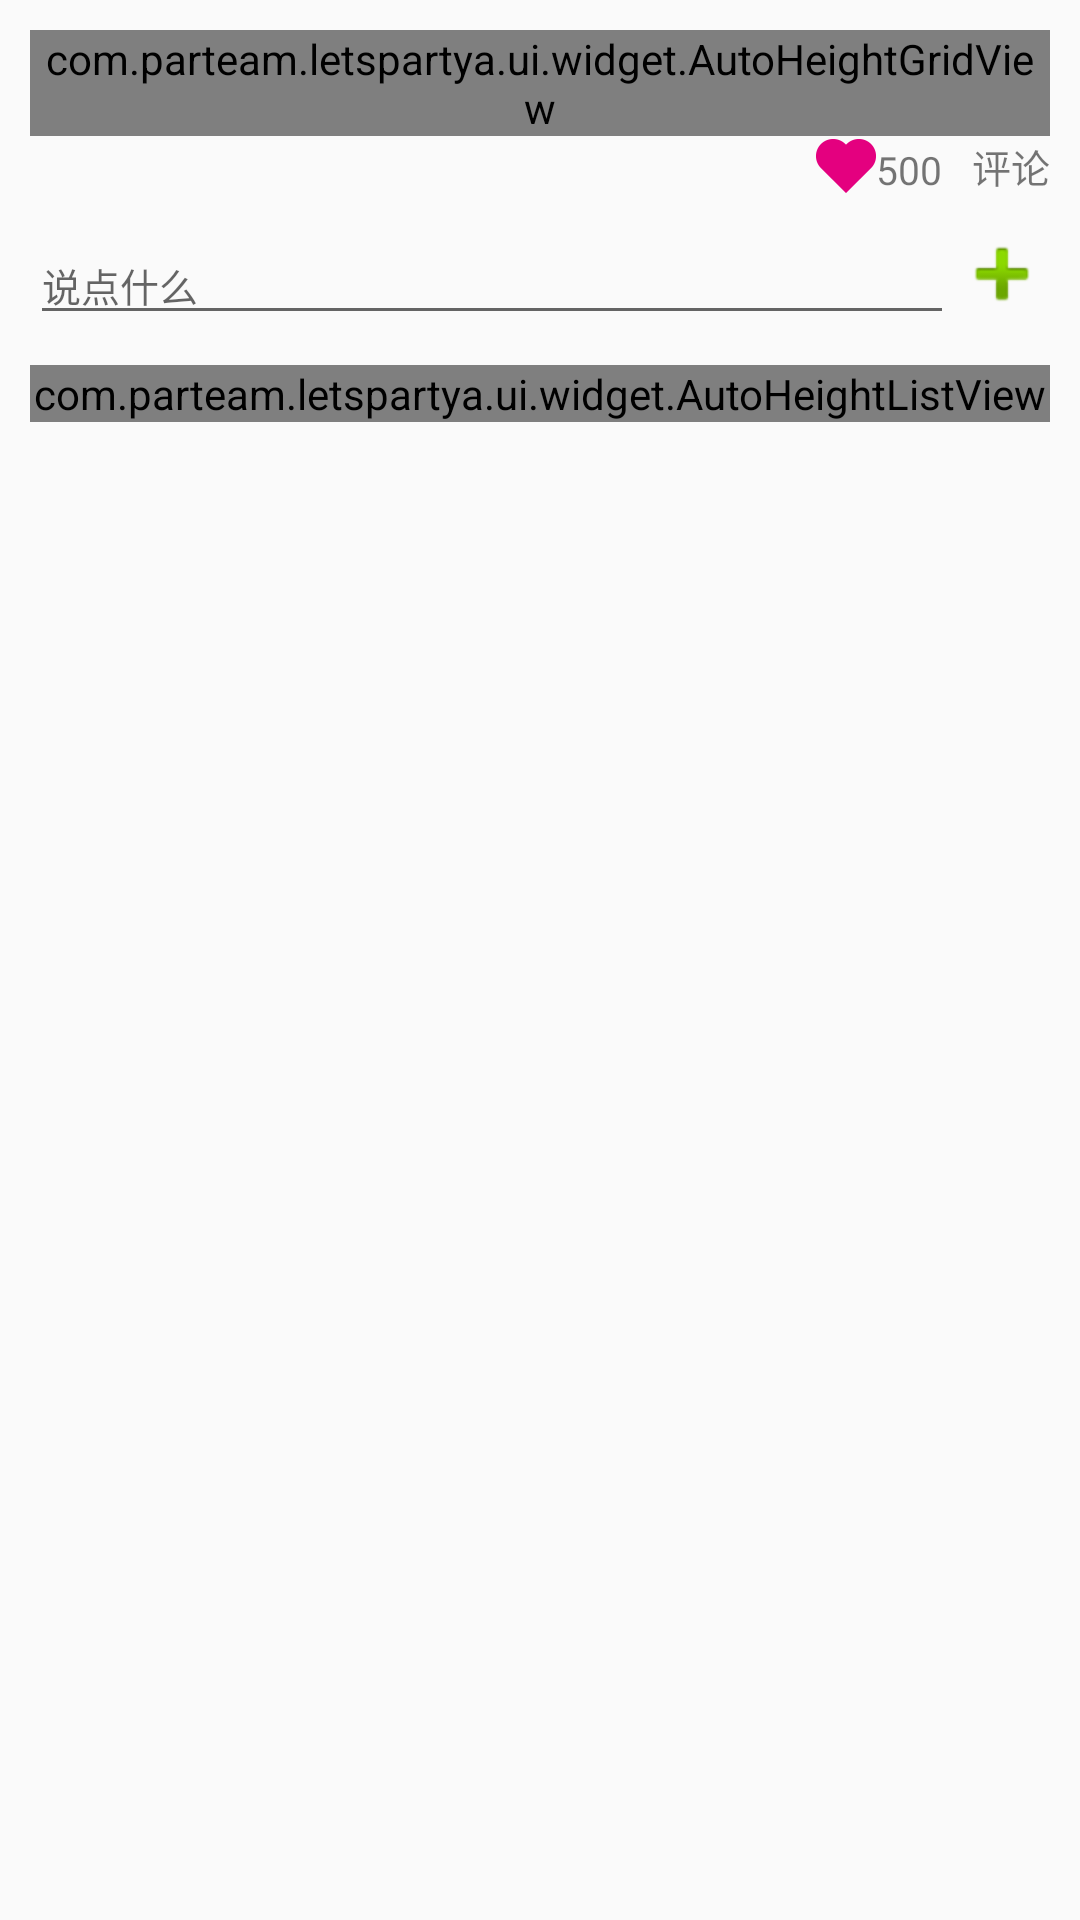

Icons on this 1080*1920 Android screen, each with its box as detection(x1, y1, x2, y2):
add: detection(975, 247, 1029, 301)
